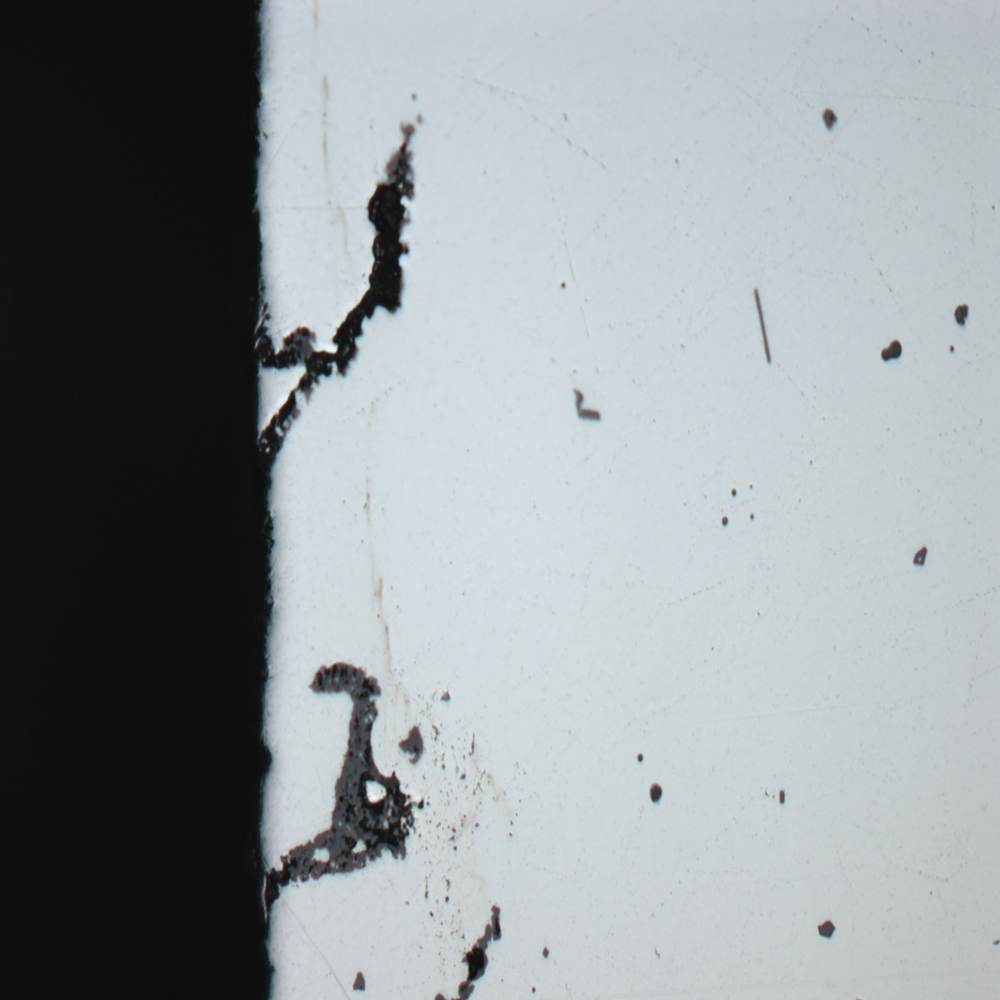crack: (231, 75, 447, 477), (249, 612, 439, 930), (455, 883, 525, 1000)
